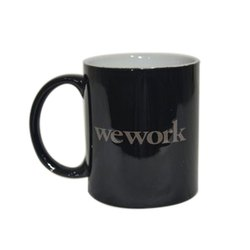wework: (93, 117, 188, 146)
